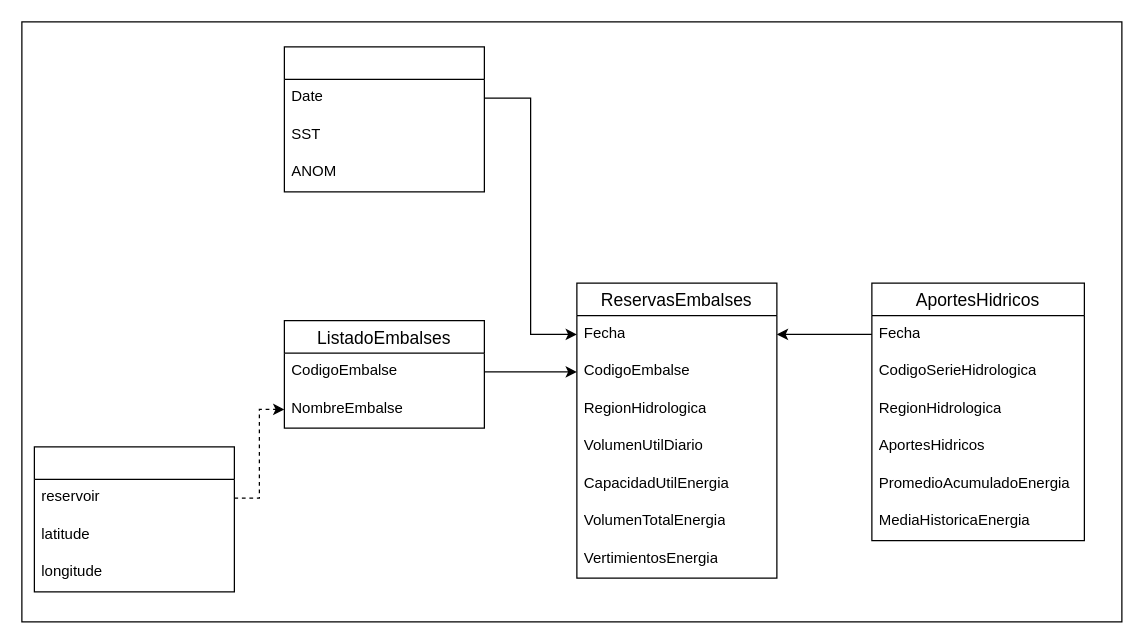
Some shapes in this 1144 by 644 pixel diagram are drawn without their labels. Here are the shapes that lost their labels. From the top down, the box of each, then its label:
(283, 46, 484, 192): ONI
(33, 446, 234, 592): PARATEC
